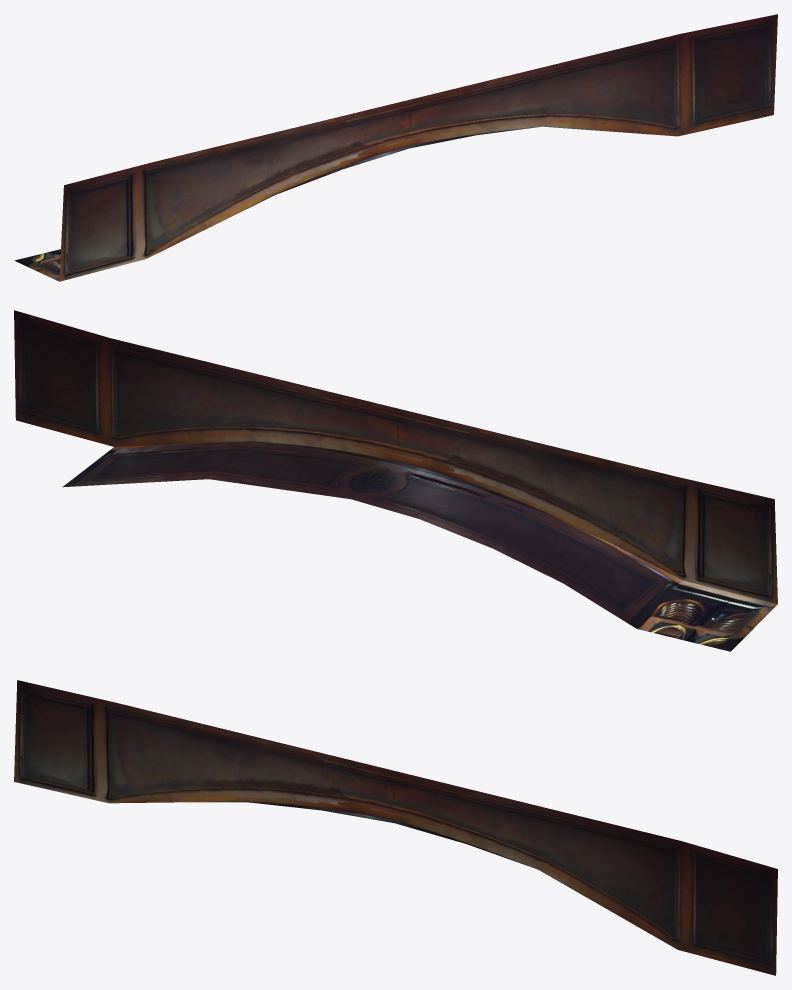
File: LivingRoom_GEO_GRP_Celing_Top.obj
3 views of the same model, one above another, from view 1: azimuth 30°, elevation 25°; view 2: azimuth 150°, elevation 25°; view 3: azimuth 330°, elevation 25° (orthographic). The views are drawn at different scales.
Visible parts, largest first — view 1: LivingRoom_GEO_GRP_Celing_Top; view 2: LivingRoom_GEO_GRP_Celing_Top; view 3: LivingRoom_GEO_GRP_Celing_Top.
Part boxes in pixels (left/top/right/bottom): LivingRoom_GEO_GRP_Celing_Top: left=14, top=14, right=777, bottom=281; LivingRoom_GEO_GRP_Celing_Top: left=14, top=310, right=777, bottom=651; LivingRoom_GEO_GRP_Celing_Top: left=14, top=680, right=777, bottom=975.
Bounding box in the file's own units: 6.44 × 0.9248 × 0.8015.
Materials: 1 (1 with a texture image).
